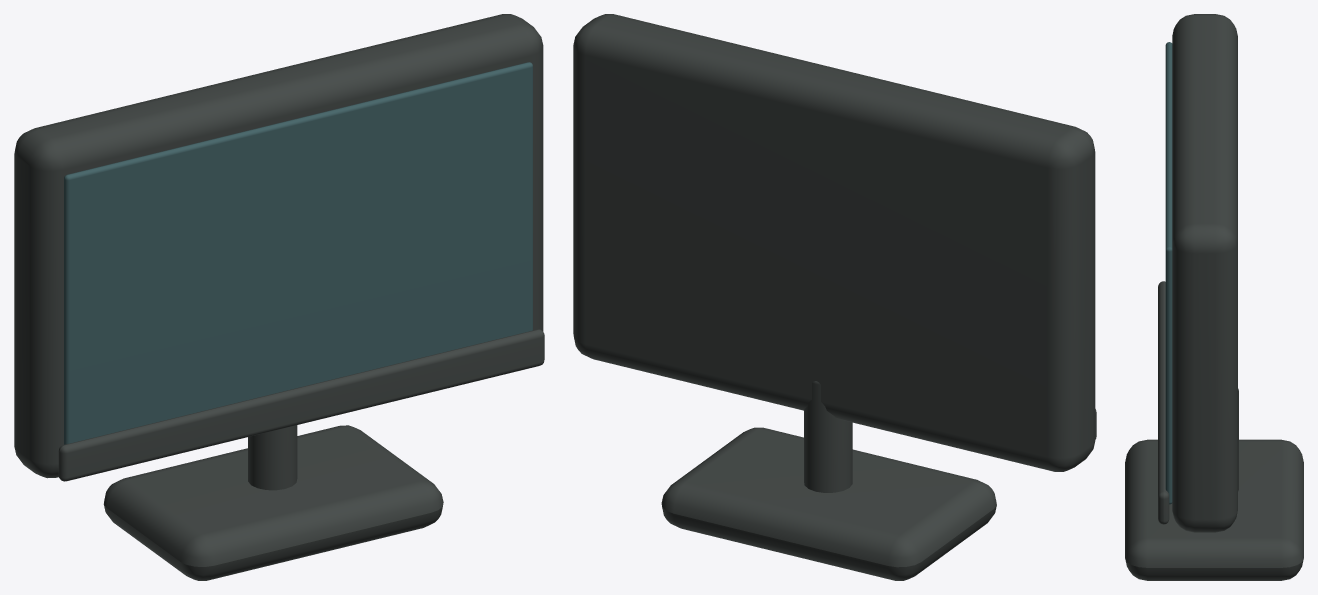
File: monitor.glb
3 renders of one model, left to right at view 1: azimuth 30°, elevation 25°; view 2: azimuth 150°, elevation 25°; view 3: azimuth 270°, elevation 25°, orthographic. The views are drawn at different scales.
Parts seen in each view (by area): view 1: Monitor Screen, Monitor Body, Monitor Foot, Monitor Chin, Monitor Neck; view 2: Monitor Body, Monitor Foot, Monitor Neck; view 3: Monitor Body, Monitor Foot, Monitor Screen, Monitor Chin.
Boxes of the visible parts, x1,y1,x2,y2 form: Monitor Screen: (64,62,532,444); Monitor Body: (14,14,543,478); Monitor Foot: (103,425,443,580); Monitor Chin: (58,329,544,481); Monitor Neck: (248,425,297,490); Monitor Body: (573,14,1095,471); Monitor Foot: (661,427,996,580); Monitor Neck: (804,381,852,492); Monitor Body: (1172,14,1237,532); Monitor Foot: (1125,439,1303,580); Monitor Screen: (1165,42,1172,504); Monitor Chin: (1158,281,1169,524).
Bounding box in the file's own units: 0.285 × 0.241 × 0.095.
